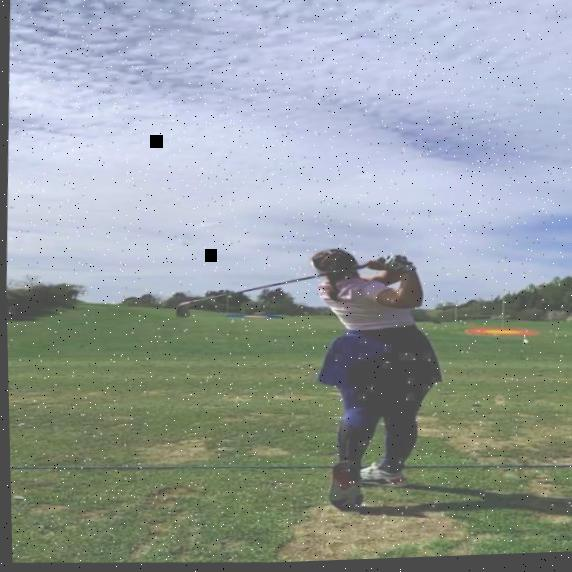ClubHead: (174, 303, 193, 323)
